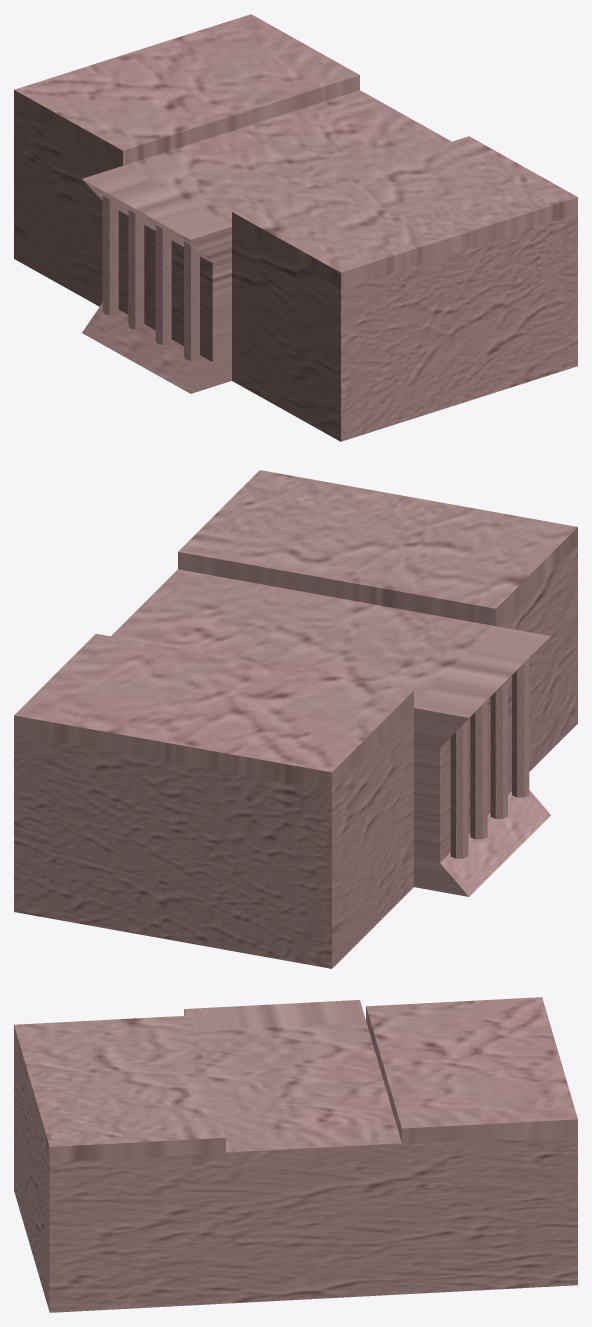
File: BellasArtes.gltf
The picture shows the model from 3 angles, top to bottom: view 1: azimuth 30°, elevation 25°; view 2: azimuth 150°, elevation 25°; view 3: azimuth 270°, elevation 25°; orthographic projection. The views are drawn at different scales.
Visible parts, largest first — view 1: BellasArtes; view 2: BellasArtes; view 3: BellasArtes.
Boxes of the visible parts, x1=… form: BellasArtes: x1=14, y1=14, x2=577, y2=441; BellasArtes: x1=14, y1=470, x2=577, y2=968; BellasArtes: x1=14, y1=997, x2=577, y2=1312.
Size of the model in its own units: 1 by 0.4793 by 1.48.
Materials: 1 (1 with a texture image).
